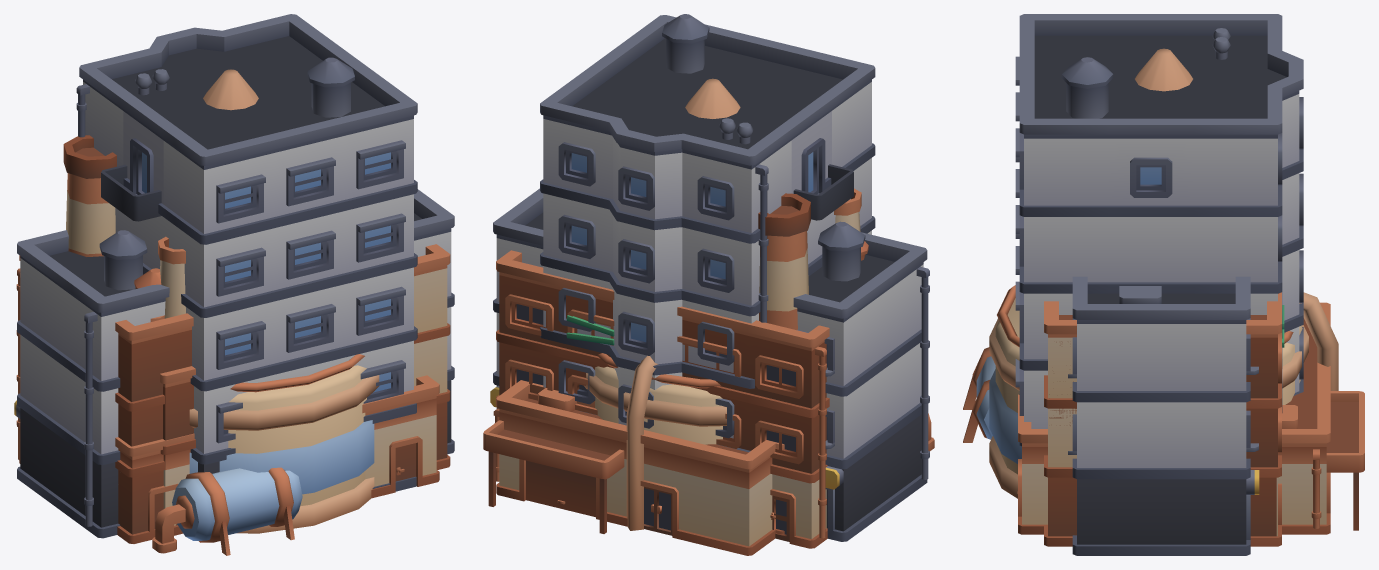
The model's file is props.glb.
3 views of the same model, side by side, from view 1: azimuth 30°, elevation 25°; view 2: azimuth 150°, elevation 25°; view 3: azimuth 270°, elevation 25° (orthographic). The views are drawn at different scales.
Visible parts, largest first — view 1: shop-l, shop-k, tank-large, factory-c, factory-b, factory-a, factory-e, factory-f, water-tower; view 2: shop-l, shop-k, factory-a, factory-c, tank-large, factory-f, water-tower, factory-b, factory-e; view 3: shop-l, shop-k, factory-c, factory-b, tank-large, factory-a, water-tower.
Part boxes in pixels (left/top/right/bottom): shop-l: left=76, top=14, right=417, bottom=491; shop-k: left=14, top=189, right=454, bottom=538; tank-large: left=189, top=354, right=379, bottom=533; factory-c: left=152, top=375, right=439, bottom=555; factory-b: left=115, top=244, right=450, bottom=543; factory-a: left=16, top=244, right=449, bottom=536; factory-e: left=158, top=236, right=195, bottom=535; factory-f: left=63, top=135, right=195, bottom=526; water-tower: left=203, top=69, right=258, bottom=110; shop-l: left=540, top=14, right=875, bottom=452; shop-k: left=490, top=188, right=929, bottom=541; factory-a: left=496, top=241, right=868, bottom=548; factory-c: left=483, top=380, right=934, bottom=555; tank-large: left=584, top=353, right=726, bottom=530; factory-f: left=530, top=193, right=810, bottom=407; water-tower: left=685, top=78, right=740, bottom=118; factory-b: left=498, top=252, right=687, bottom=408; factory-e: left=775, top=188, right=861, bottom=534; shop-l: left=1015, top=14, right=1303, bottom=446; shop-k: left=1068, top=276, right=1259, bottom=555; factory-c: left=963, top=302, right=1364, bottom=534; factory-b: left=1044, top=301, right=1284, bottom=546; tank-large: left=989, top=285, right=1338, bottom=498; factory-a: left=1045, top=292, right=1281, bottom=546; water-tower: left=1135, top=48, right=1192, bottom=91.
Size of the model in its own units: 16.67 by 18.16 by 15.18.
